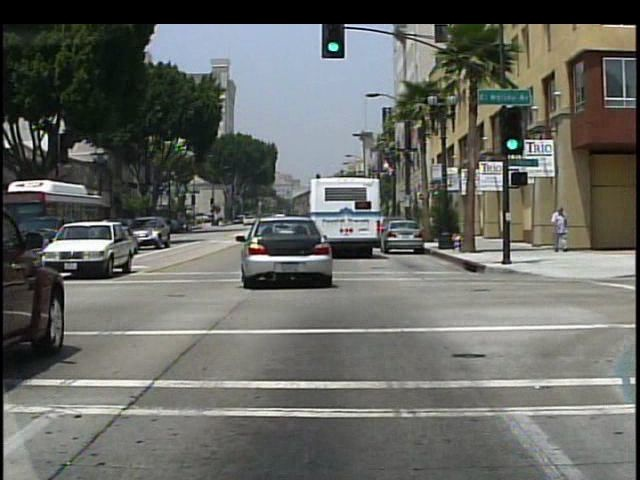person: (550, 205, 571, 254)
